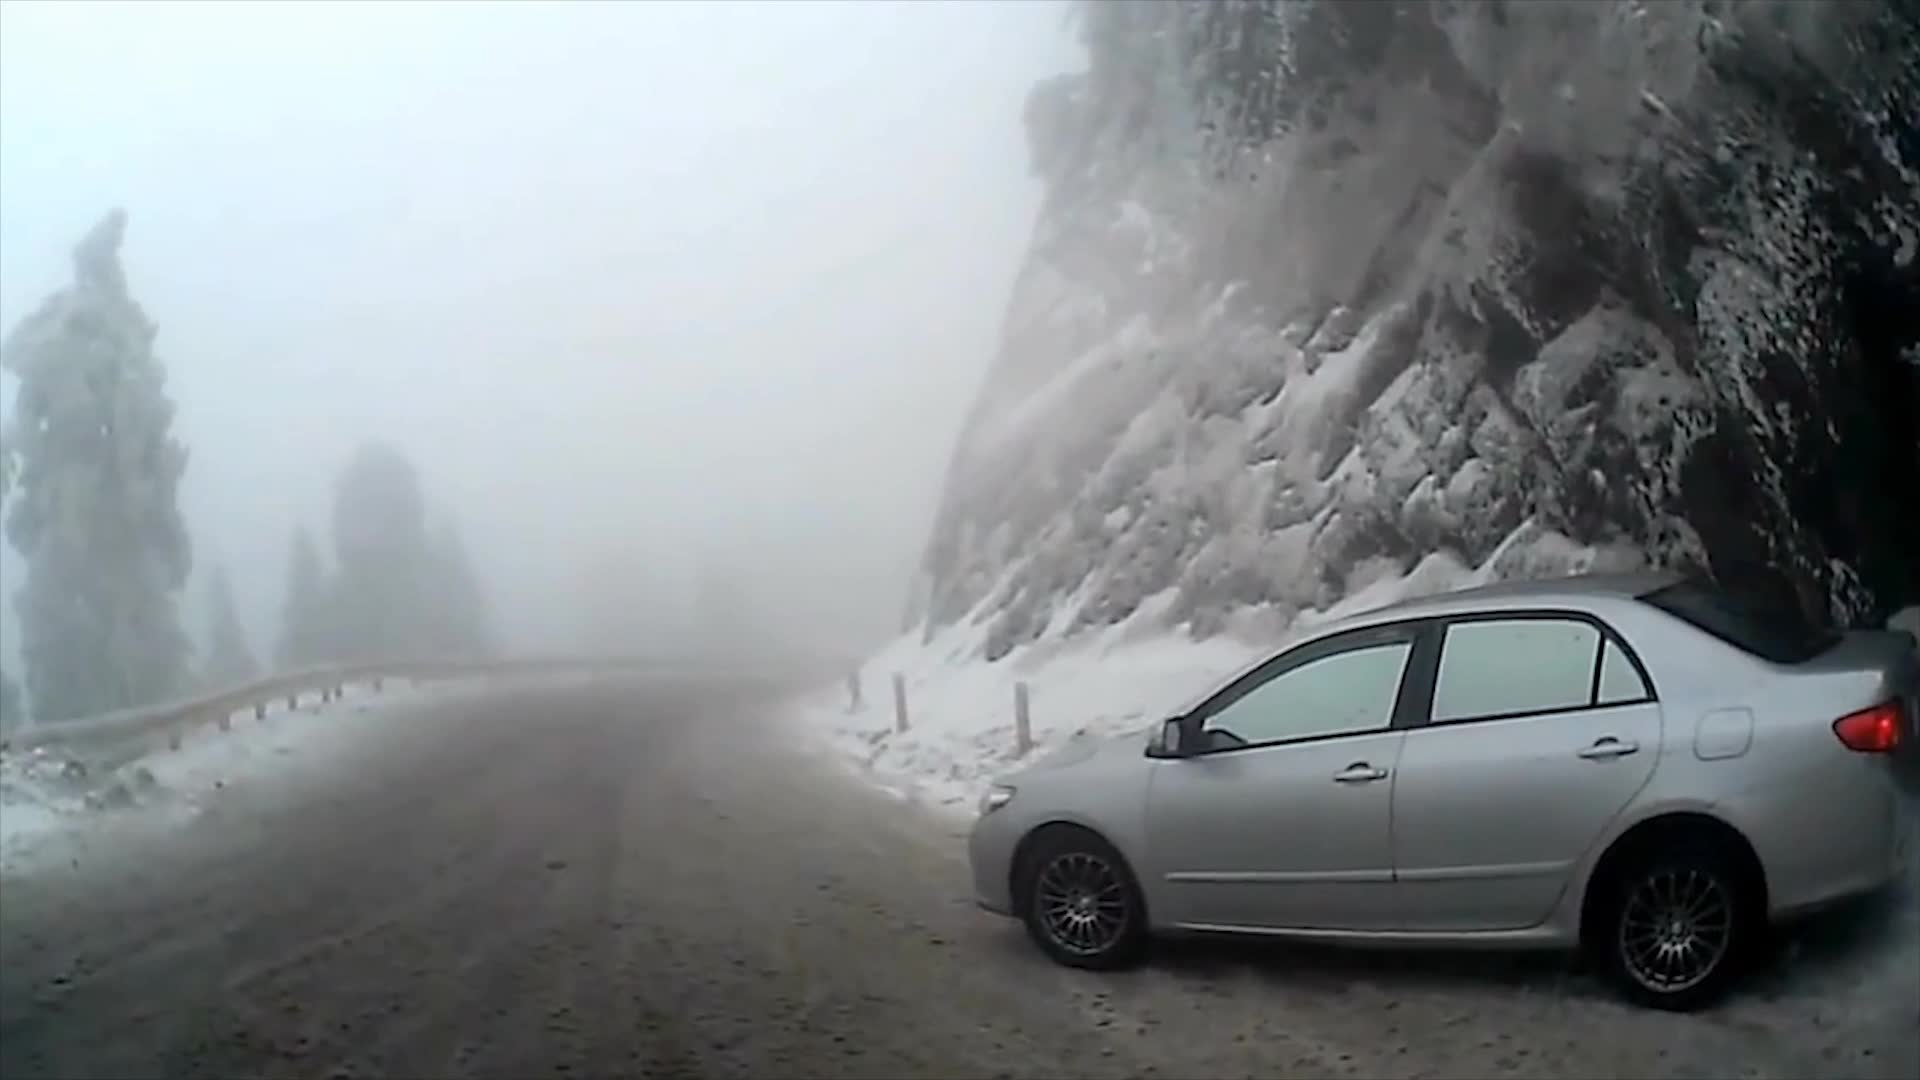vehicle: (971, 574, 1920, 1015)
